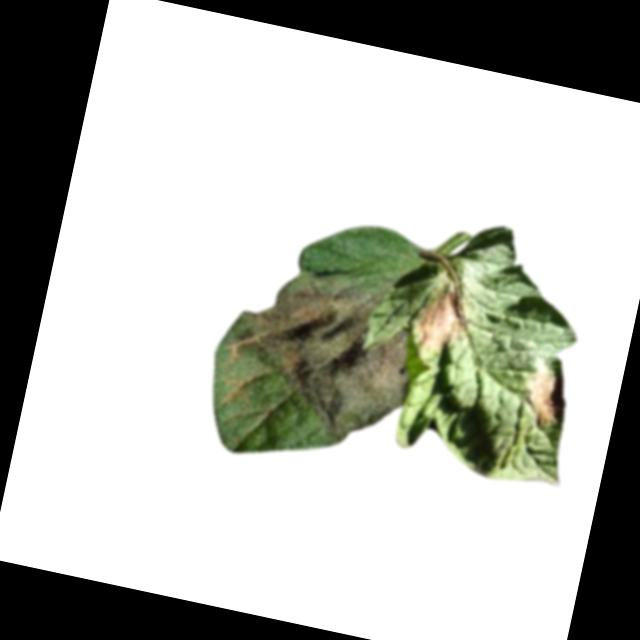Late_blight: (213, 246, 432, 456), (411, 284, 477, 361), (518, 365, 573, 435)
